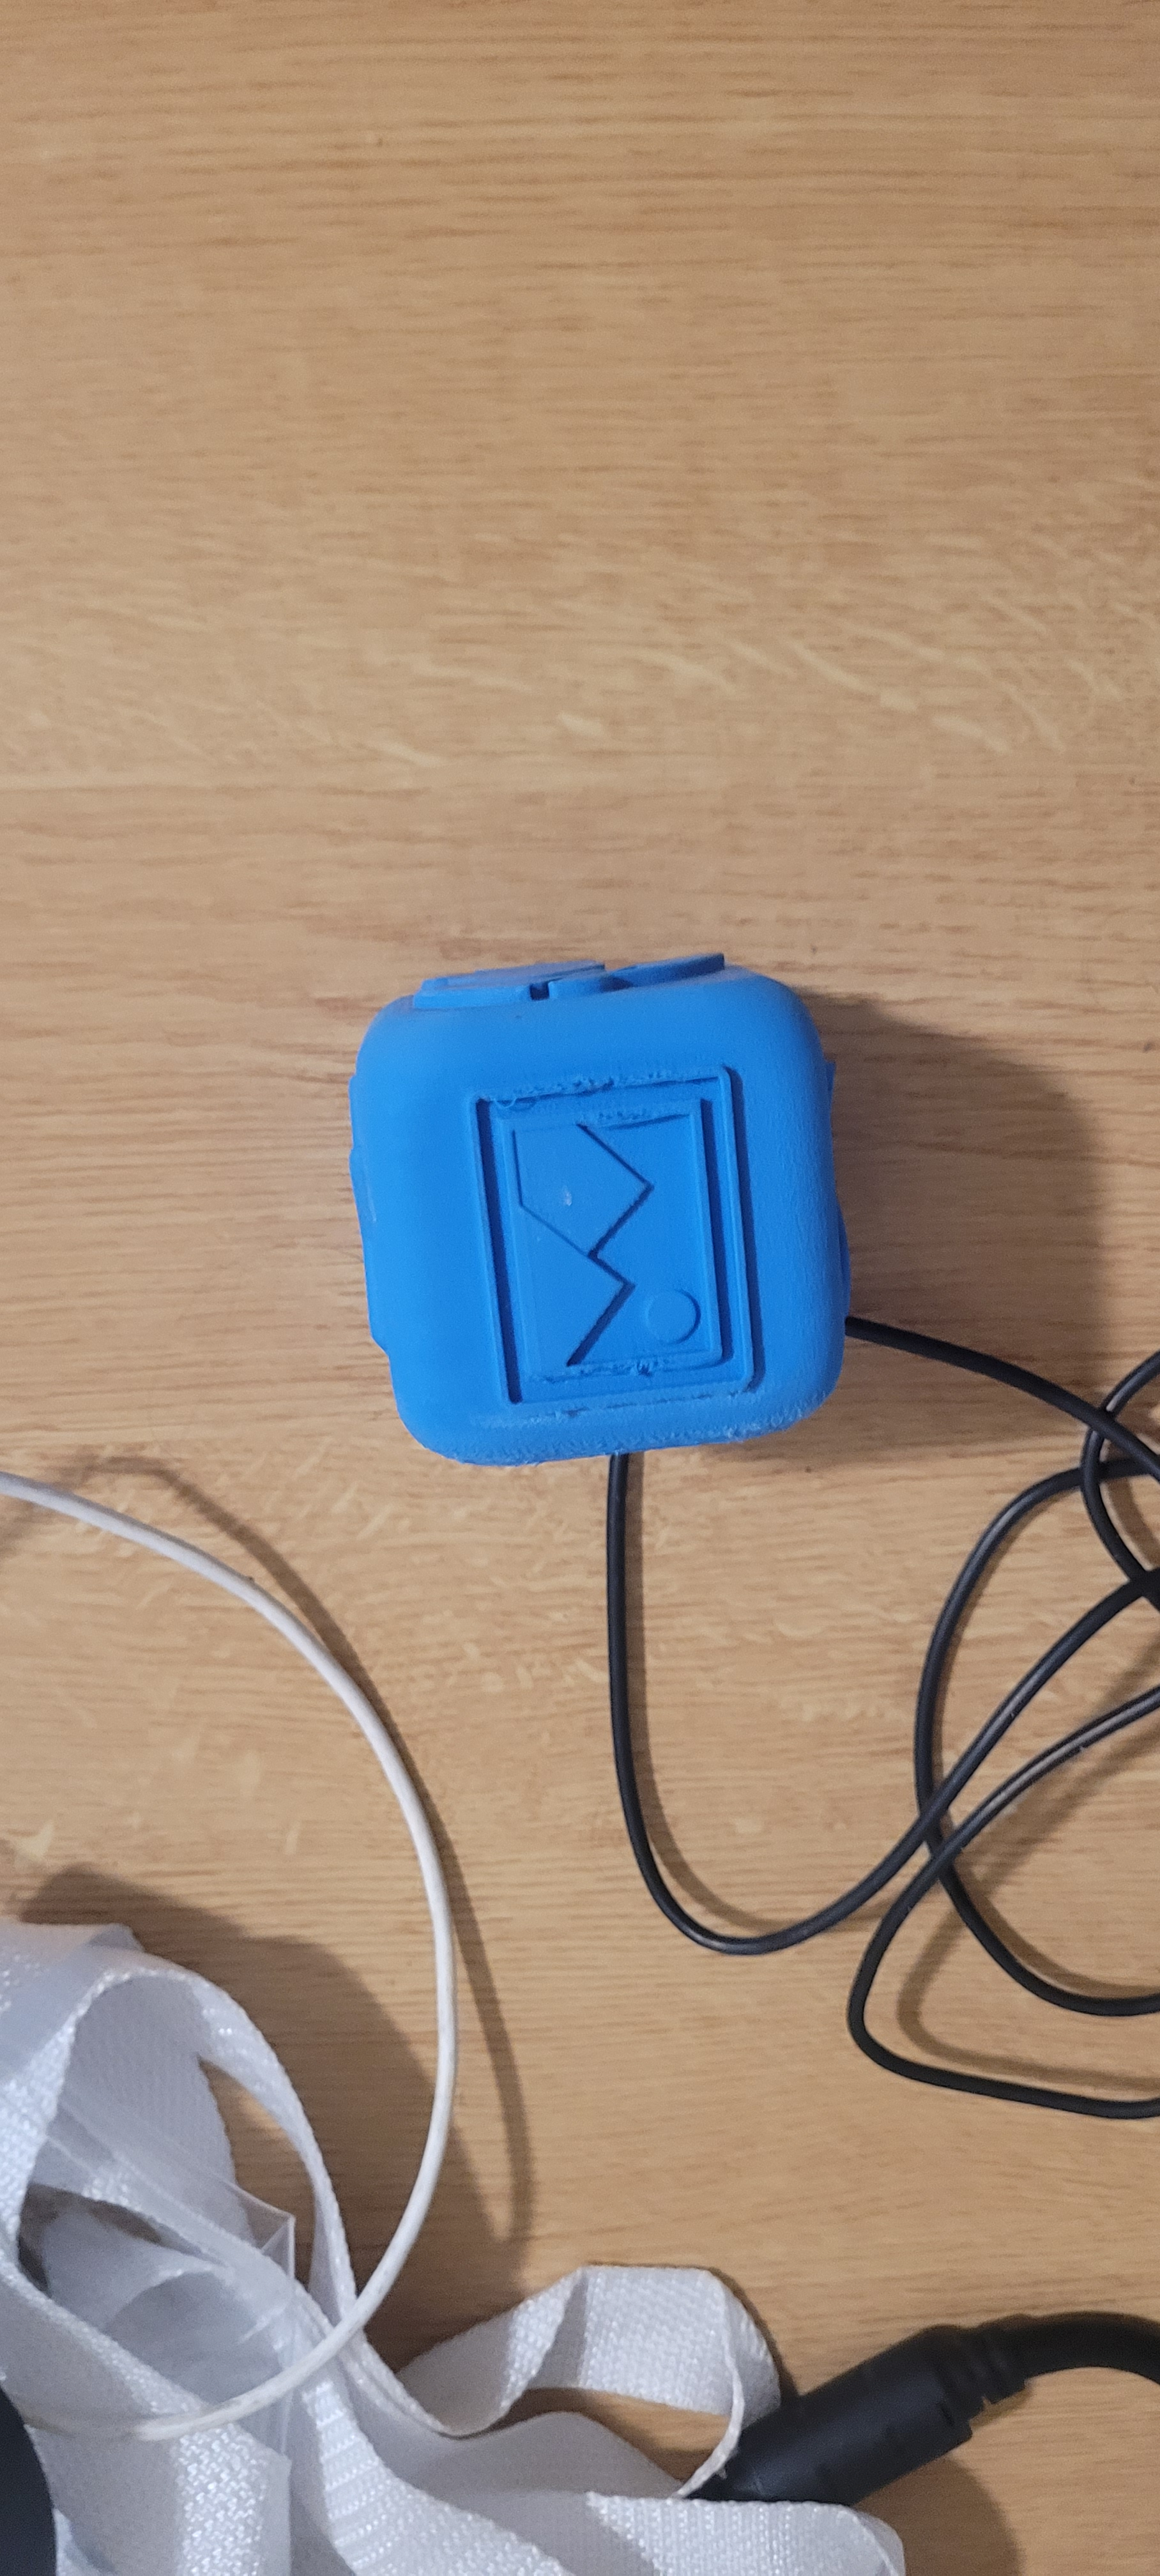Story: (437, 1060, 784, 1418)
